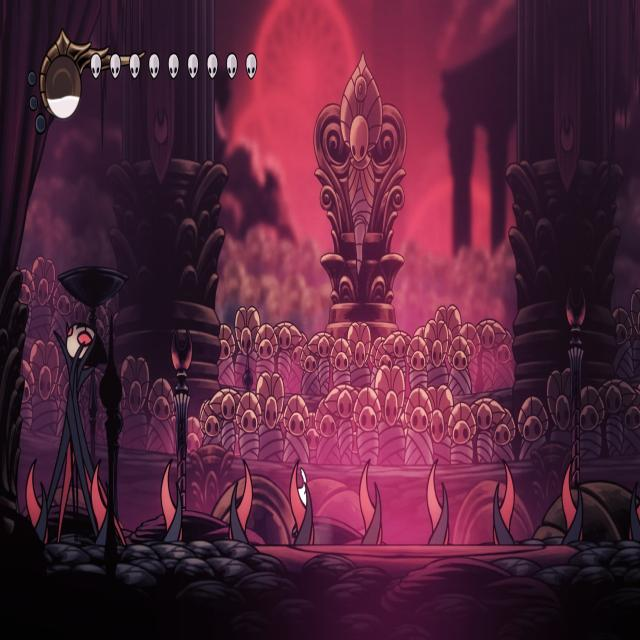Grimm: (46, 313, 107, 543)
Player: (290, 459, 318, 546)
Spikes: (26, 455, 50, 547), (491, 462, 516, 547), (360, 459, 385, 544), (428, 460, 452, 546), (162, 457, 186, 543), (232, 462, 256, 544), (560, 457, 583, 542), (291, 460, 314, 545), (90, 461, 112, 544)
